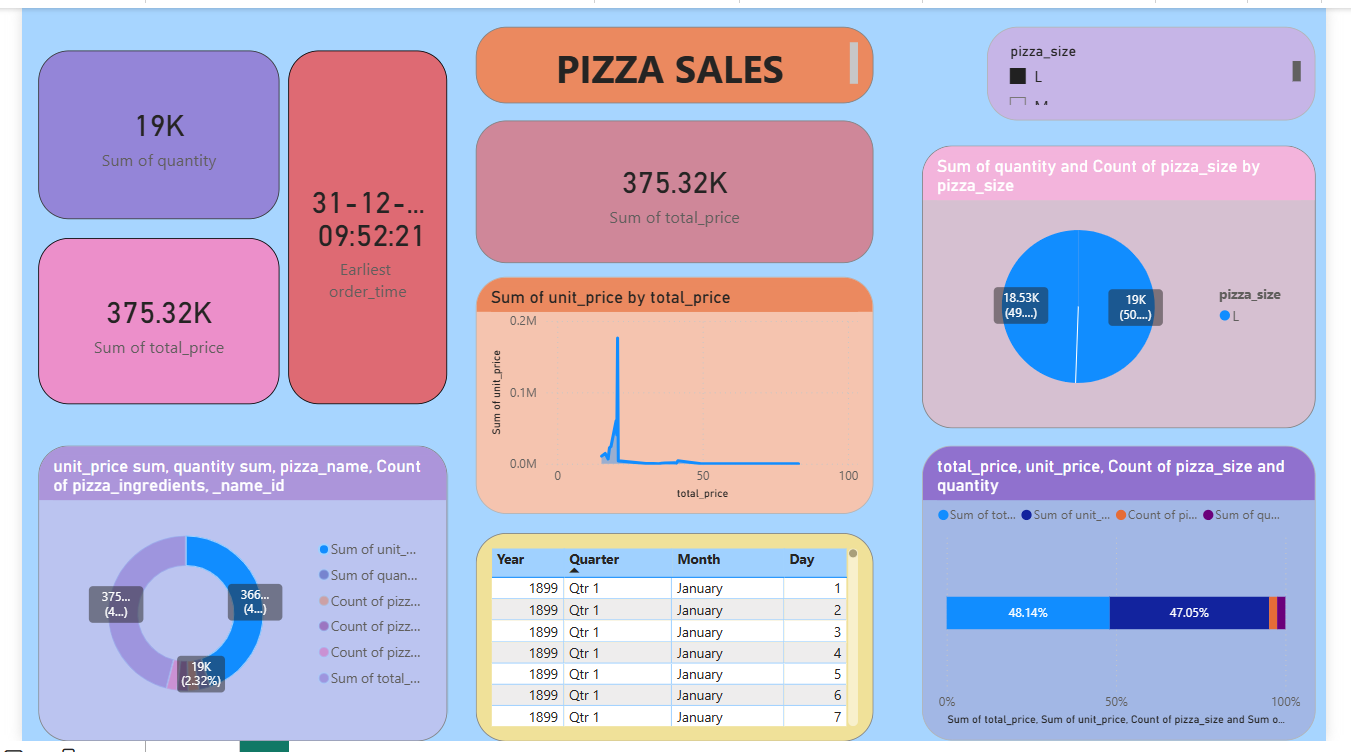

Layout of this report page (visuals, bound fields, positions):
{"tool":"powerbi","page":{"name":"Page 1","canvas":[1280,720],"ordinal":0},"visuals":[{"type":"donutChart","title":"unit_price sum, quantity sum, pizza_name, Count of pizza_ingredients, _name_id","fields":{"Y":["Sum(pizza_sales.unit_price)","Sum(pizza_sales.quantity)","CountNonNull(pizza_sales.pizza_name)","CountNonNull(pizza_sales.pizza_ingredients)","CountNonNull(pizza_sales.pizza_name_id)","Sum(pizza_sales.total_price)"]},"box":[16,429.5,401.2,290.8],"z":0},{"type":"pieChart","fields":{"Category":["pizza_sales.pizza_size"],"Y":["Sum(pizza_sales.quantity)","CountNonNull(pizza_sales.pizza_size)","select"]},"box":[883.4,135,386.5,277.3],"z":1000},{"type":"card","fields":{"Values":["Sum(pizza_sales.total_price)"]},"box":[445.4,110.4,390.2,139.9],"z":3000},{"type":"hundredPercentStackedBarChart","title":"total_price, unit_price, Count of pizza_size and  quantity","fields":{"Y":["Sum(pizza_sales.total_price)","Sum(pizza_sales.unit_price)","CountNonNull(pizza_sales.pizza_size)","Sum(pizza_sales.quantity)"]},"box":[883.4,429.5,386.5,289.6],"z":4000},{"type":"textbox","box":[445.4,18.4,390.2,74.8],"z":5000},{"type":"tableEx","fields":{"Values":["pizza_sales.order_time.Variation.Date Hierarchy.Year","pizza_sales.order_time.Variation.Date Hierarchy.Quarter","pizza_sales.order_time.Variation.Date Hierarchy.Month","pizza_sales.order_time.Variation.Date Hierarchy.Day"]},"box":[445.4,515.3,390.2,204.9],"z":6000},{"type":"lineChart","fields":{"Category":["pizza_sales.total_price"],"Y":["Sum(pizza_sales.unit_price)"]},"box":[445.4,263.8,390.2,233.1],"z":7000},{"type":"slicer","fields":{"Values":["pizza_sales.pizza_size"]},"box":[947.2,18.4,322.7,92],"z":8000},{"type":"card","fields":{"Values":["Sum(pizza_sales.quantity)"]},"box":[16,41.7,236.8,165.6],"z":9000},{"type":"card","fields":{"Values":["Sum(pizza_sales.total_price)"]},"box":[16,225.8,236.8,163.2],"z":9001},{"type":"card","fields":{"Values":["Min(pizza_sales.order_time)"]},"box":[261.4,41.7,155.8,347.2],"z":9002}]}

Visuals, with their boxes in screenshot pixels (x1, y1, x2, y2), scaled from the page's 1280x720 canvas onto the 1351x752 screenshot:
"unit_price sum, quantity sum, pizza_name, Count of pizza_ingredients, _name_id" donutChart: (x1=17, y1=449, x2=440, y2=751)
pieChart - pizza_sales.pizza_size x Sum(pizza_sales.quantity): (x1=932, y1=141, x2=1340, y2=431)
card - Sum(pizza_sales.total_price): (x1=470, y1=115, x2=882, y2=261)
"total_price, unit_price, Count of pizza_size and  quantity" hundredPercentStackedBarChart: (x1=932, y1=449, x2=1340, y2=751)
textbox: (x1=470, y1=19, x2=882, y2=97)
tableEx - pizza_sales.order_time.Variation.Date Hierarchy.Year x pizza_sales.order_time.Variation.Date Hierarchy.Quarter: (x1=470, y1=538, x2=882, y2=751)
lineChart - pizza_sales.total_price x Sum(pizza_sales.unit_price): (x1=470, y1=276, x2=882, y2=519)
slicer - pizza_sales.pizza_size: (x1=1000, y1=19, x2=1340, y2=115)
card - Sum(pizza_sales.quantity): (x1=17, y1=44, x2=267, y2=217)
card - Sum(pizza_sales.total_price): (x1=17, y1=236, x2=267, y2=406)
card - Min(pizza_sales.order_time): (x1=276, y1=44, x2=440, y2=406)
